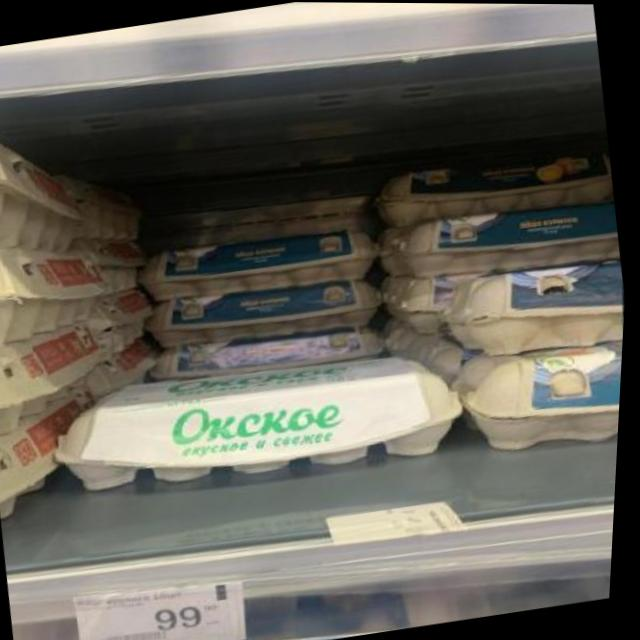Egg: (48, 327, 482, 518), (369, 132, 619, 240), (135, 261, 393, 365), (375, 186, 625, 292), (132, 210, 385, 313), (435, 250, 630, 375), (457, 333, 627, 463), (145, 312, 398, 396)
